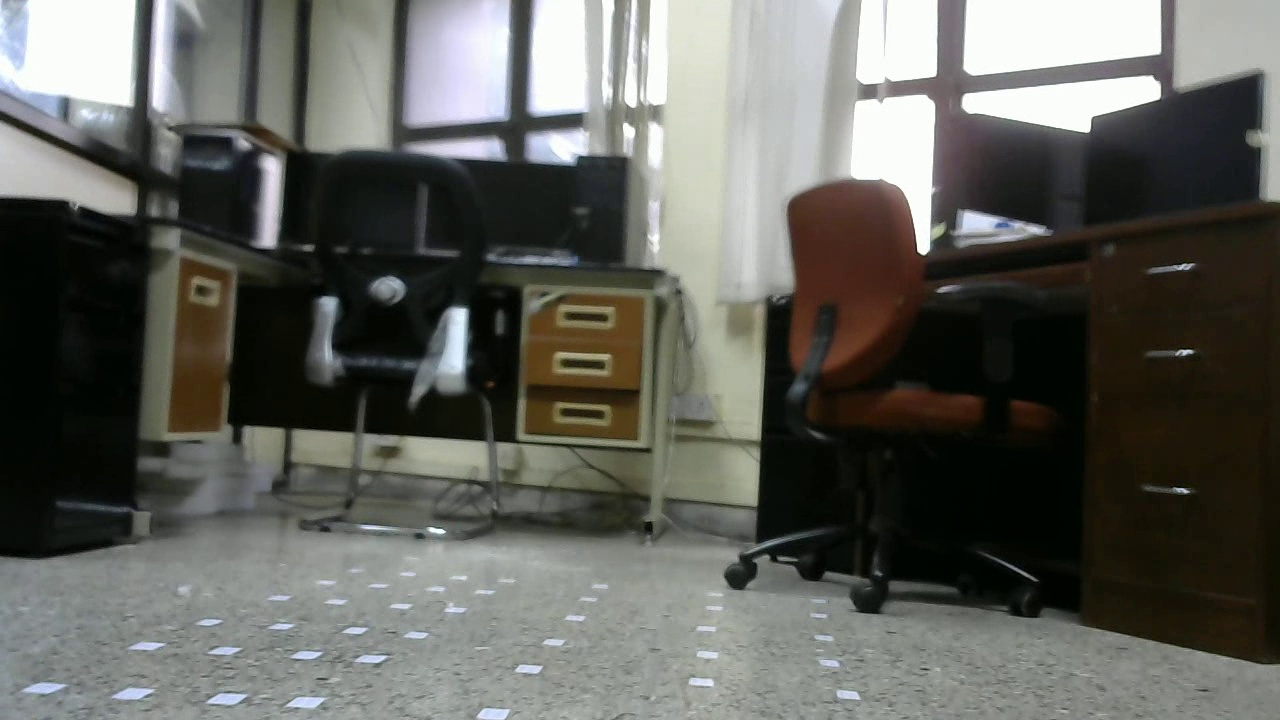chair: (719, 177, 1063, 619), (295, 149, 515, 541)
